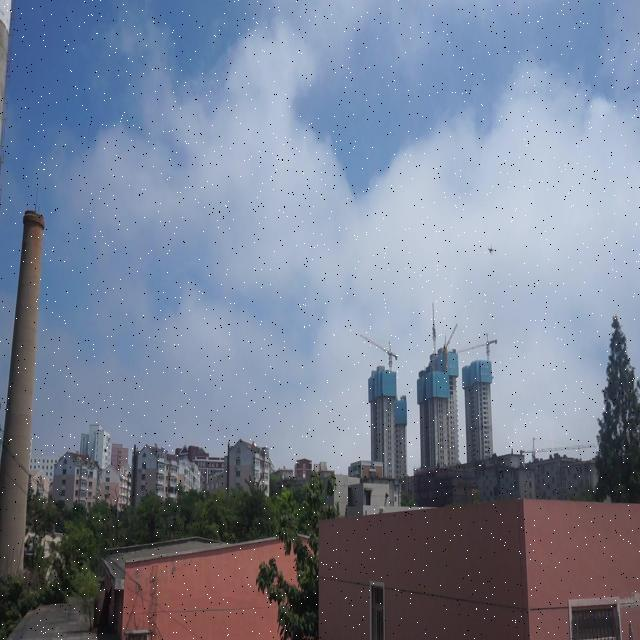UAV: (487, 245, 496, 255)
